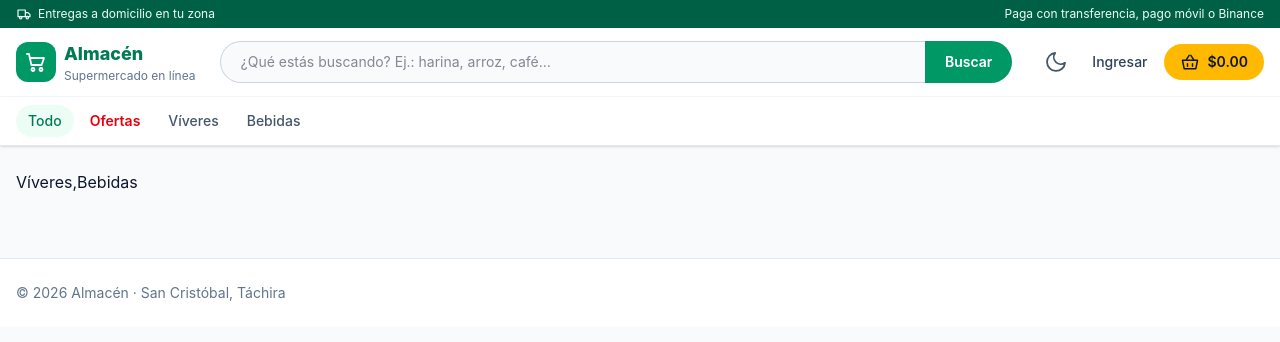
TiendaLayout: buscador › buscar pone el texto, sin espacios, en ?q
The width and height of the screenshot is (1280, 342).
Type "  harina pan " into the search field named "Buscar productos". click: point(572, 62)
box: [220, 41, 925, 83]
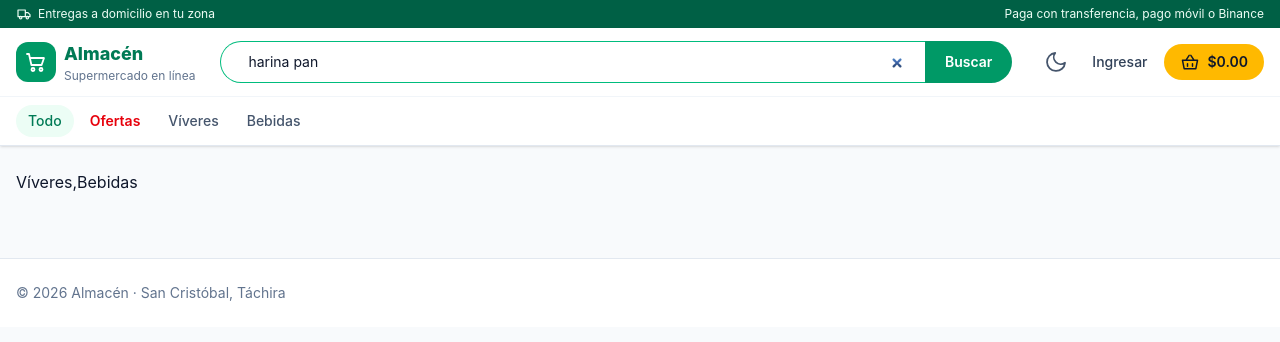
Click the button "Buscar". click: point(969, 62)
box: [925, 41, 1012, 83]
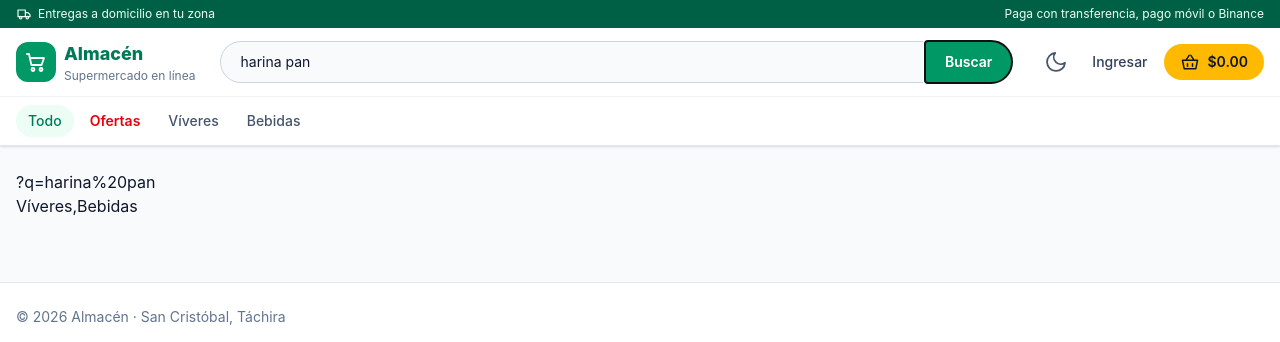
Now the text with test id "busqueda" reads "?q=harina%20pan", box [16, 172, 156, 192]
